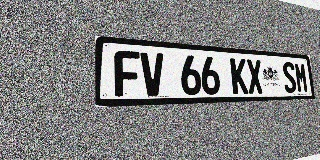6: (180, 55, 202, 95), (200, 56, 220, 95)
F: (114, 50, 141, 97)
K: (230, 58, 248, 94)
M: (294, 62, 309, 93)
S: (282, 61, 297, 93)
V: (140, 52, 165, 96)
X: (246, 59, 263, 94)
